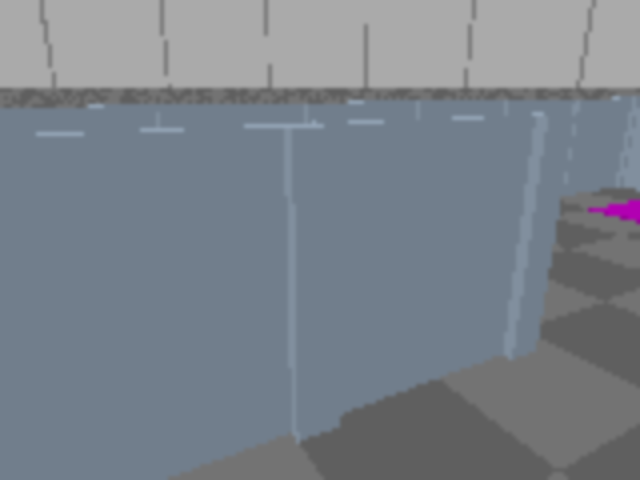goal_zone: (589, 201, 638, 232)
